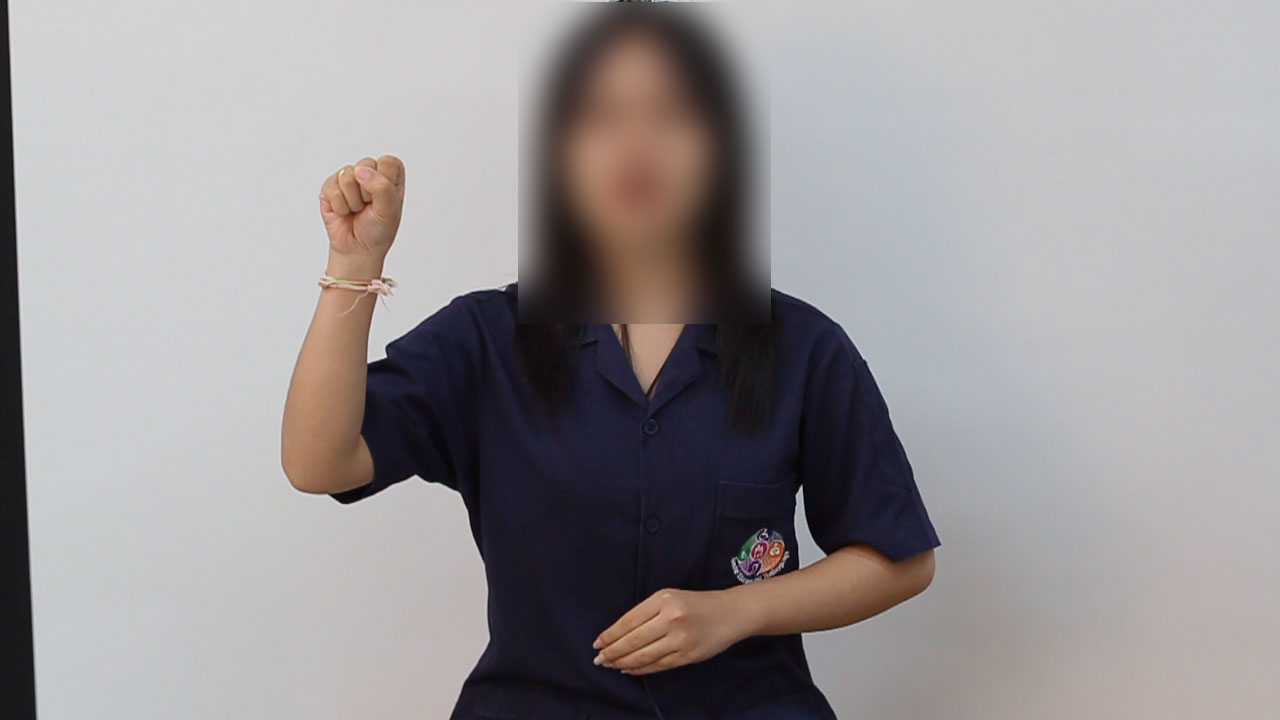sor: (308, 146, 423, 295)
